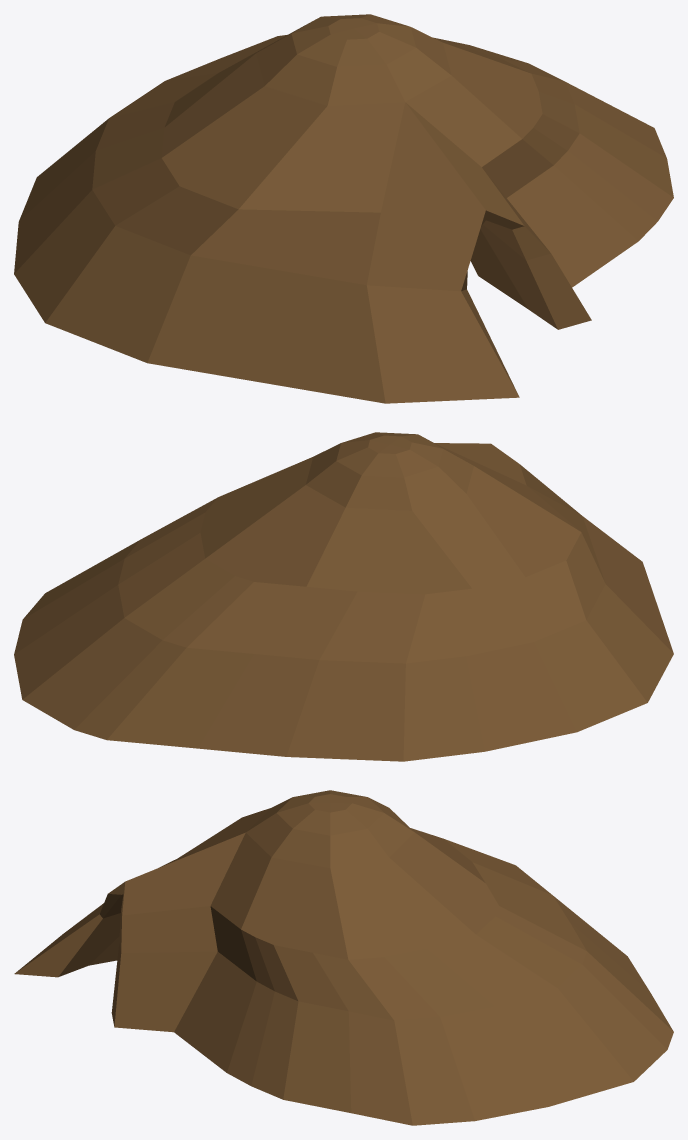
File: Cove.fbx
3 views of the same model, one above another, from view 1: azimuth 30°, elevation 25°; view 2: azimuth 150°, elevation 25°; view 3: azimuth 270°, elevation 25° (orthographic). The views are drawn at different scales.
Parts seen in each view (by area): view 1: LakeEdge.002; view 2: LakeEdge.002; view 3: LakeEdge.002.
Part boxes in pixels (bbox=[...]): LakeEdge.002: bbox=[14, 14, 673, 403]; LakeEdge.002: bbox=[14, 432, 673, 761]; LakeEdge.002: bbox=[14, 790, 673, 1125].
Size of the model in its own units: 50.01 by 16.32 by 53.13.
